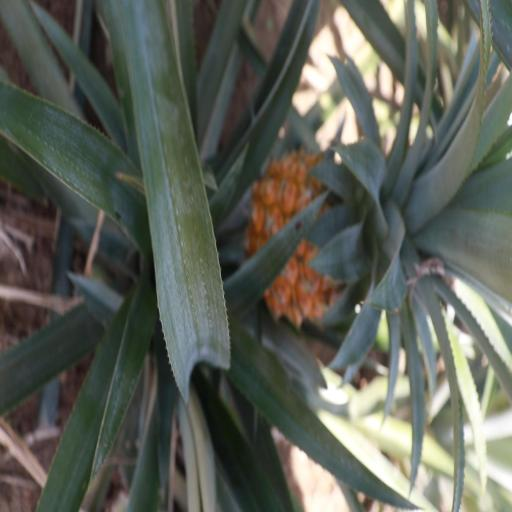Pineapple - v8 v1: (253, 143, 512, 339)
